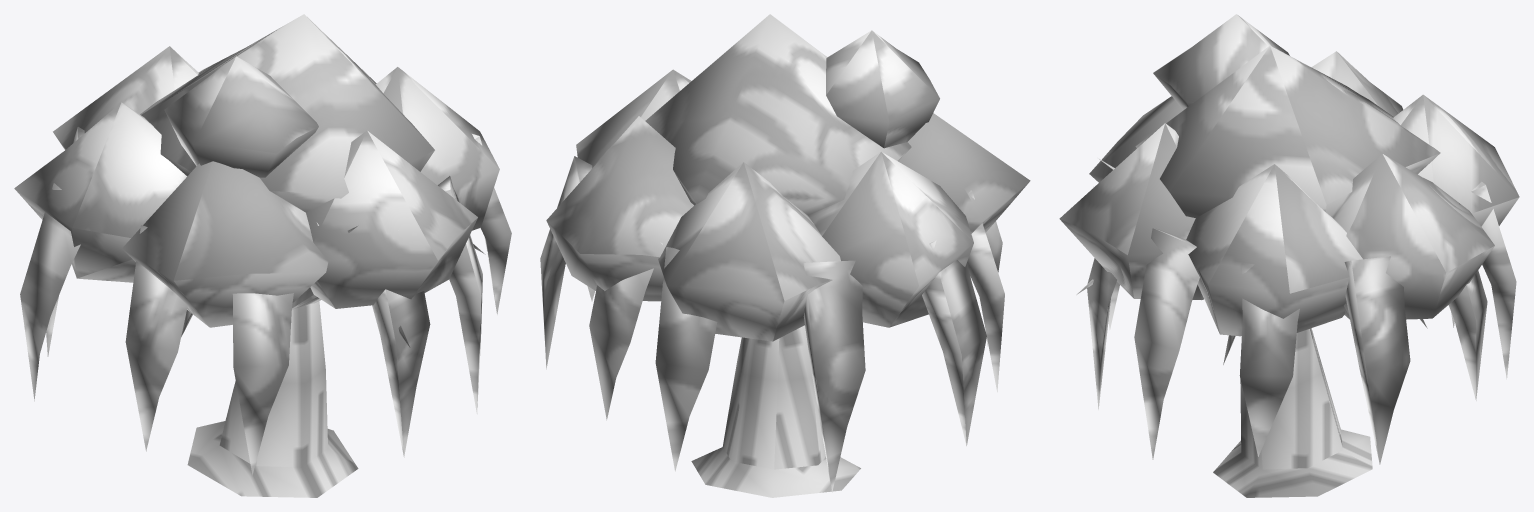
The model's file is tree_willow_1.obj.
3 views of the same model, side by side, from view 1: azimuth 30°, elevation 25°; view 2: azimuth 150°, elevation 25°; view 3: azimuth 270°, elevation 25° (orthographic). The views are drawn at different scales.
Visible parts, largest first — view 1: source_component_030, source_component_031, source_component_032, source_component_029, source_component_000, source_component_033, source_component_026, source_component_041, source_component_040, source_component_042, source_component_039, source_component_028 (+2 smaller); view 2: source_component_032, source_component_028, source_component_029, source_component_000, source_component_027, source_component_038, source_component_033, source_component_030, source_component_037, source_component_039, source_component_036, source_component_026 (+2 smaller); view 3: source_component_032, source_component_026, source_component_027, source_component_000, source_component_031, source_component_035, source_component_043, source_component_028, source_component_034, source_component_033, source_component_037, source_component_036 (+3 smaller).
Boxes of the visible parts, bbox=[...] form: source_component_030: bbox=[122, 161, 328, 327]; source_component_031: bbox=[306, 130, 477, 308]; source_component_032: bbox=[140, 14, 434, 212]; source_component_029: bbox=[14, 102, 186, 282]; source_component_000: bbox=[187, 301, 358, 497]; source_component_033: bbox=[164, 56, 318, 177]; source_component_026: bbox=[376, 67, 499, 230]; source_component_041: bbox=[232, 293, 293, 475]; source_component_040: bbox=[125, 225, 187, 451]; source_component_042: bbox=[372, 289, 430, 457]; source_component_039: bbox=[20, 183, 80, 401]; source_component_028: bbox=[53, 46, 198, 149]; source_component_032: bbox=[645, 14, 911, 215]; source_component_028: bbox=[658, 162, 840, 341]; source_component_029: bbox=[808, 151, 973, 327]; source_component_000: bbox=[691, 325, 860, 497]; source_component_027: bbox=[546, 116, 693, 301]; source_component_038: bbox=[803, 260, 865, 492]; source_component_033: bbox=[826, 30, 939, 148]; source_component_030: bbox=[898, 113, 1030, 233]; source_component_037: bbox=[655, 247, 717, 471]; source_component_039: bbox=[922, 240, 986, 445]; source_component_036: bbox=[589, 242, 662, 420]; source_component_026: bbox=[576, 69, 691, 168]; source_component_032: bbox=[1135, 45, 1440, 217]; source_component_026: bbox=[1186, 164, 1362, 336]; source_component_027: bbox=[1333, 154, 1494, 319]; source_component_000: bbox=[1213, 328, 1372, 497]; source_component_031: bbox=[1059, 123, 1203, 299]; source_component_035: bbox=[1344, 256, 1410, 464]; source_component_043: bbox=[1134, 228, 1199, 459]; source_component_028: bbox=[1393, 94, 1519, 226]; source_component_034: bbox=[1239, 263, 1299, 456]; source_component_033: bbox=[1153, 14, 1289, 110]; source_component_037: bbox=[1471, 181, 1516, 379]; source_component_036: bbox=[1448, 203, 1487, 400].
Bounding box in the file's own units: 0.9558 × 0.9702 × 0.931.
